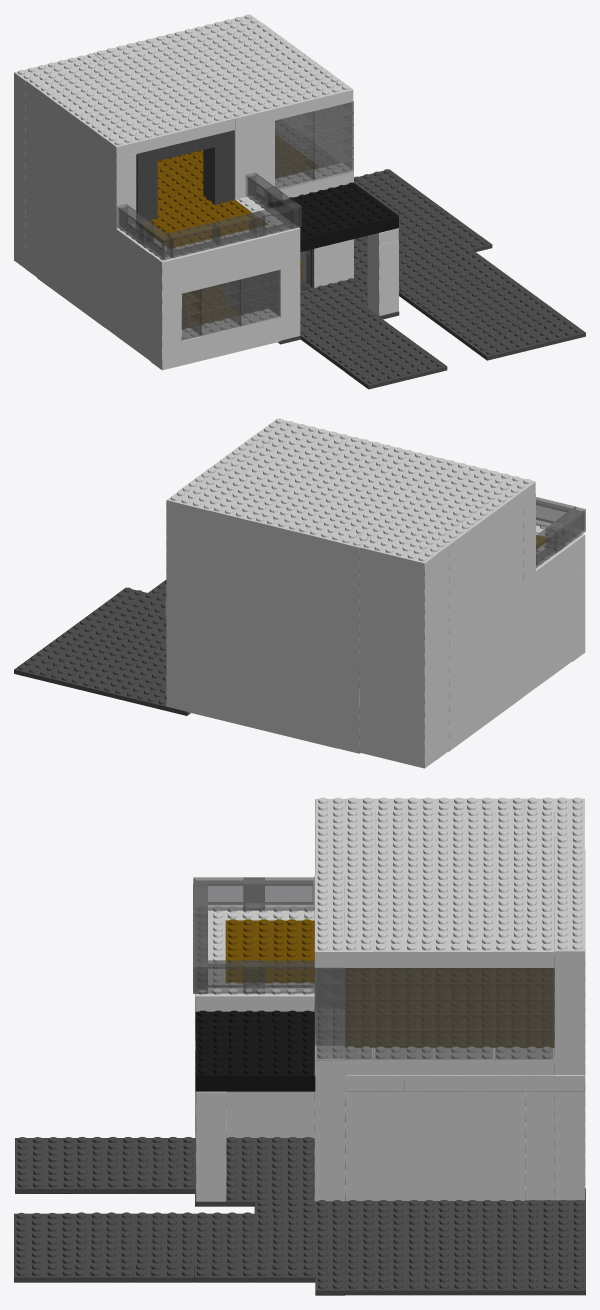
The model's file is modern_house.glb.
3 renders of one model, top to bottom at view 1: azimuth 30°, elevation 25°; view 2: azimuth 150°, elevation 25°; view 3: azimuth 270°, elevation 25°, orthographic. The views are drawn at different scales.
Visible parts, largest first — view 1: __MH_EXPORT; view 2: __MH_EXPORT; view 3: __MH_EXPORT.
Boxes of the visible parts, left/top/right/bottom form: __MH_EXPORT: left=14, top=14, right=585, bottom=389; __MH_EXPORT: left=14, top=418, right=585, bottom=768; __MH_EXPORT: left=14, top=797, right=585, bottom=1295.
Size of the model in its own units: 13.91 by 6.9 by 13.87.
